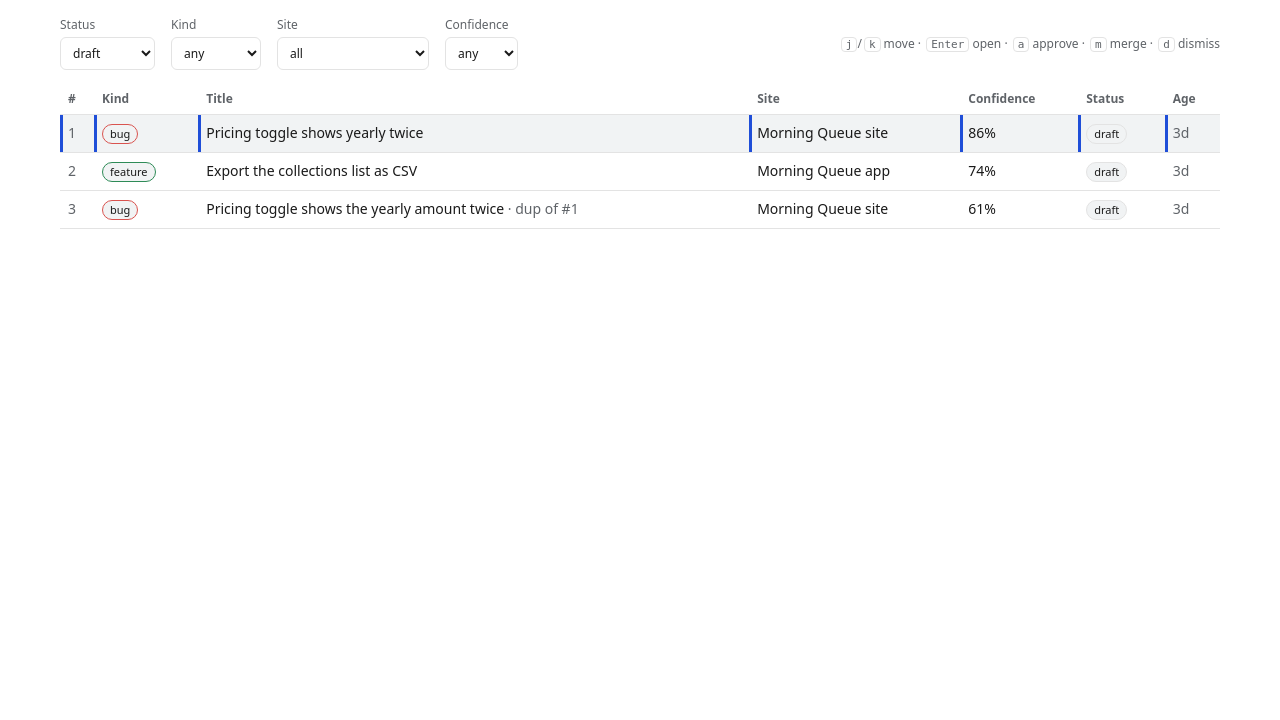
Queue › opens the approve dialog with the issue preview on 'a' and approves the selected ticket
Expected: the link "Pricing toggle shows yearly twice" is shown, [206,123,424,142]
Type keys "a"
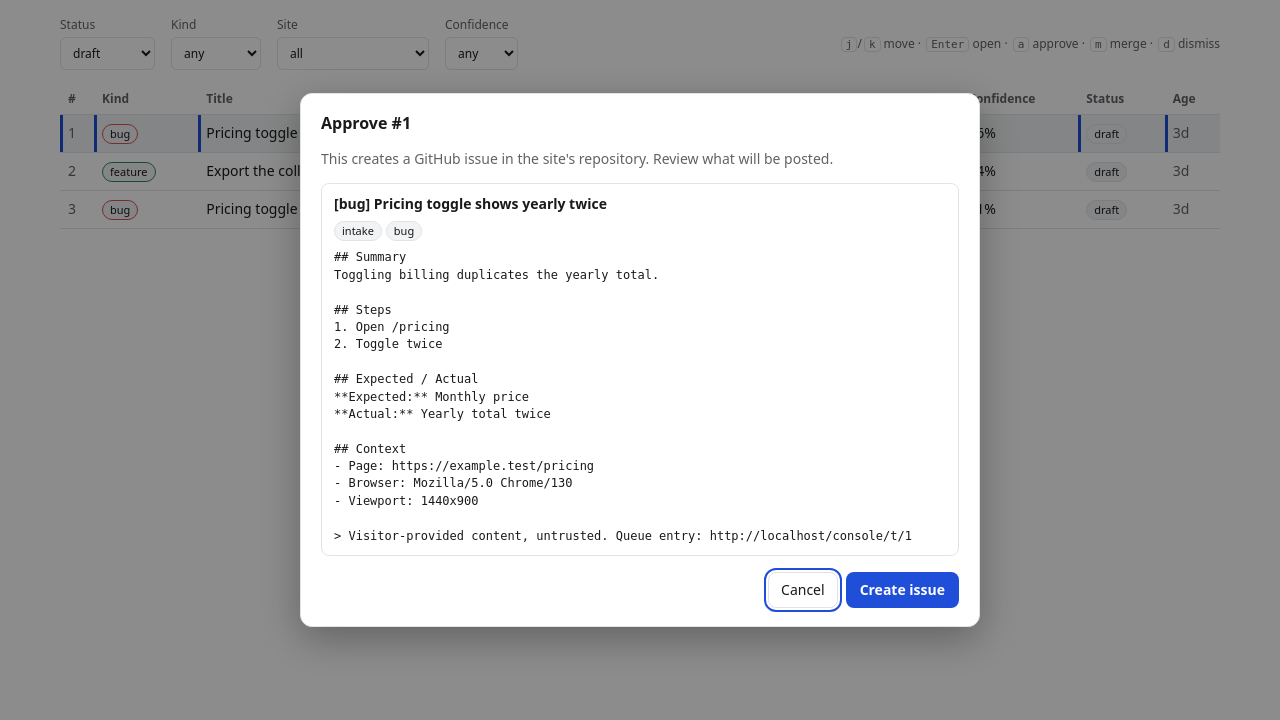
Result: the text "[bug] Pricing toggle shows yearly twice" is shown at [334,194,607,213]
Result: the text "Visitor-provided content, untrusted" is shown at [334,250,912,543]
Click the button "Create issue": [902, 590] box [846,572,959,608]
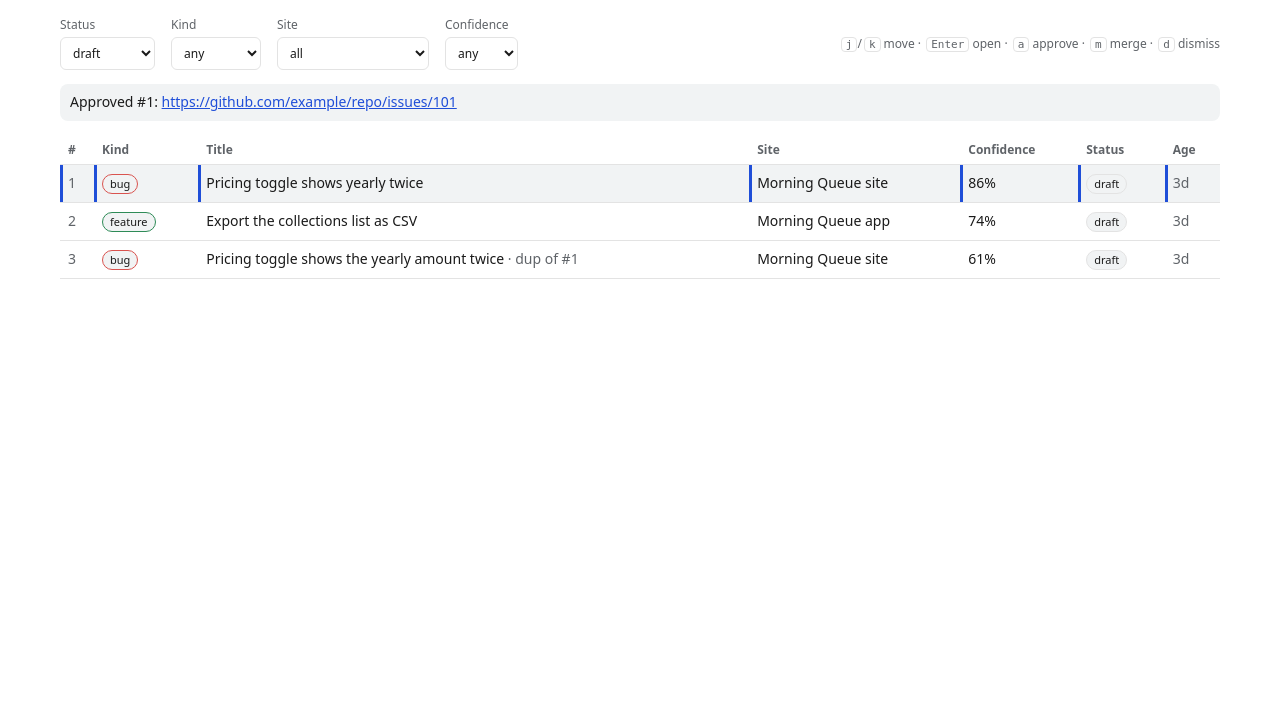
Result: the link "https://github.com/example/repo/issues/101" is shown at [162,92,457,111]
